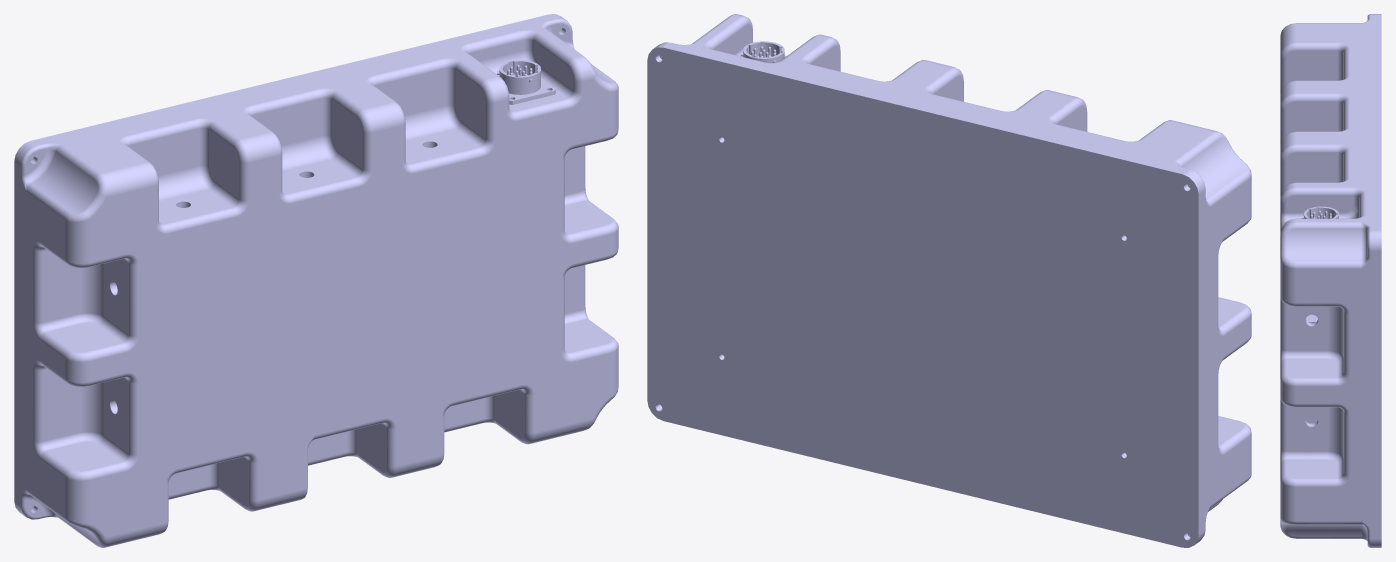
Rendered from converted_1782884714172.obj.
The picture shows the model from 3 angles, left to right: view 1: azimuth 30°, elevation 25°; view 2: azimuth 150°, elevation 25°; view 3: azimuth 270°, elevation 25°; orthographic projection. The views are drawn at different scales.
Visible parts, largest first — view 1: HPC2(Part1.2), Part1(Part1.1), 6168T59(6168T59.1); view 2: Part1(Part1.1), HPC2(Part1.2), 6168T59(6168T59.1); view 3: HPC2(Part1.2), Part1(Part1.1), 6168T59(6168T59.1), plug(plug.9), plug(plug.10).
Boxes of the visible parts, <box> form: HPC2(Part1.2): <box>18,16,618,547</box>; Part1(Part1.1): <box>14,14,563,513</box>; 6168T59(6168T59.1): <box>497,60,555,104</box>; Part1(Part1.1): <box>647,44,1202,547</box>; HPC2(Part1.2): <box>656,14,1251,542</box>; 6168T59(6168T59.1): <box>740,41,784,62</box>; HPC2(Part1.2): <box>1280,14,1375,547</box>; Part1(Part1.1): <box>1375,14,1381,547</box>; 6168T59(6168T59.1): <box>1301,206,1338,218</box>; plug(plug.9): <box>1302,412,1321,429</box>; plug(plug.10): <box>1302,312,1321,328</box>.
Size of the model in its own units: 340 by 220 by 64.
